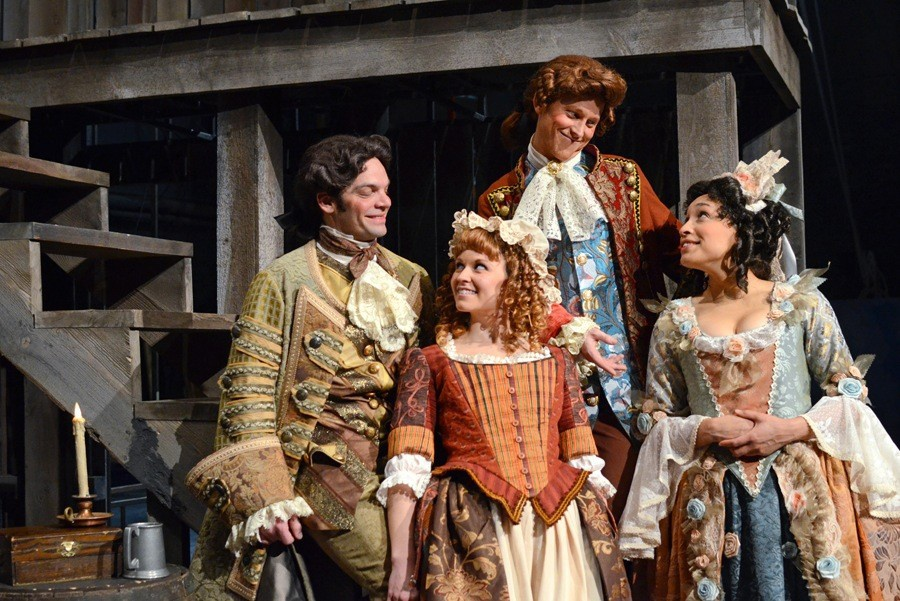bad: (342, 170, 405, 232), (660, 198, 722, 260), (439, 246, 501, 308), (550, 101, 602, 153)
